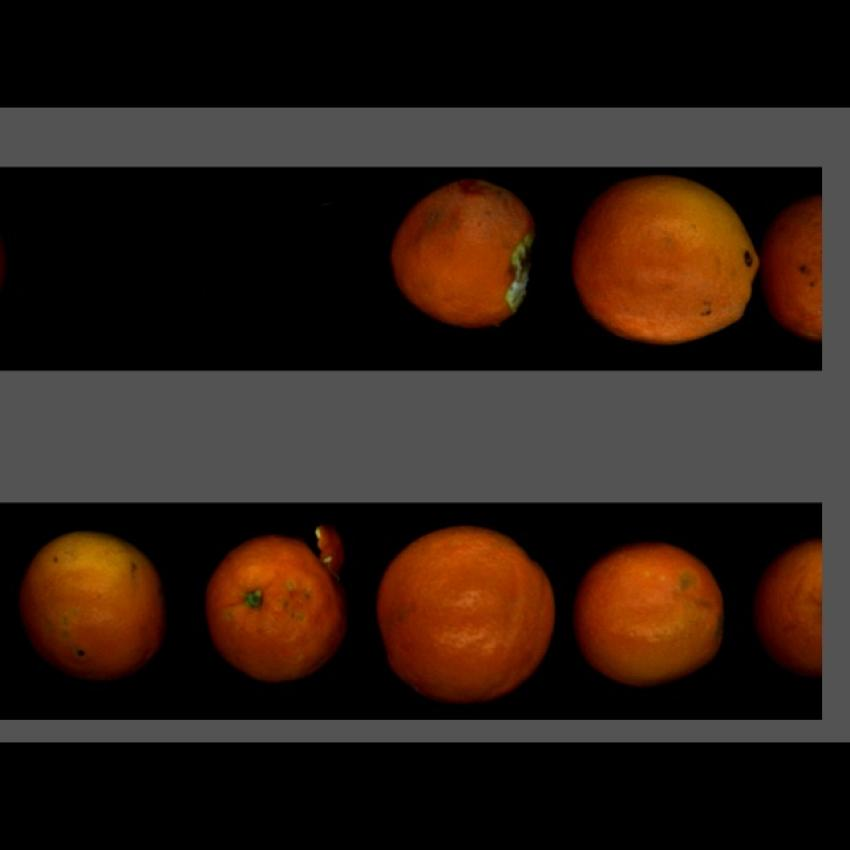Buen estado: (571, 532, 733, 690)
Mal estado: (568, 170, 760, 344), (377, 526, 558, 703), (390, 172, 538, 334), (204, 526, 350, 681), (23, 529, 169, 678), (751, 537, 825, 669), (767, 192, 824, 339)
